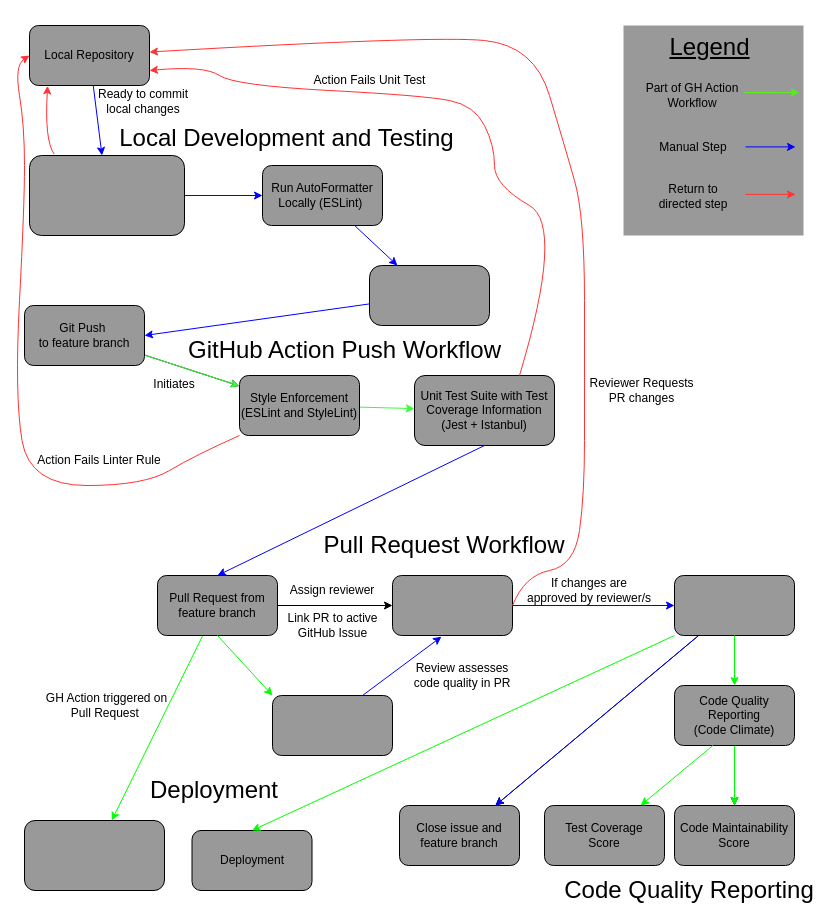
Image size: 837x922. Some labels were removed from this diagram. The shapes that lost their labels are listed below. From the top down, each one's box as (x1, y1, x2, y2) in pixels, then its label:
(28, 154, 184, 236): Run Unit Test and E2E Test Suite (Jest + Puppeteer)
(368, 264, 490, 326): Git Commit
(392, 574, 512, 636): Pull request manual code review
(674, 574, 794, 636): Merge Branch with Main
(272, 694, 392, 756): Static Analysis Inline PR comments (Code Climate)
(24, 820, 164, 890): Documentation Generated and Deployed (JSDocs)
